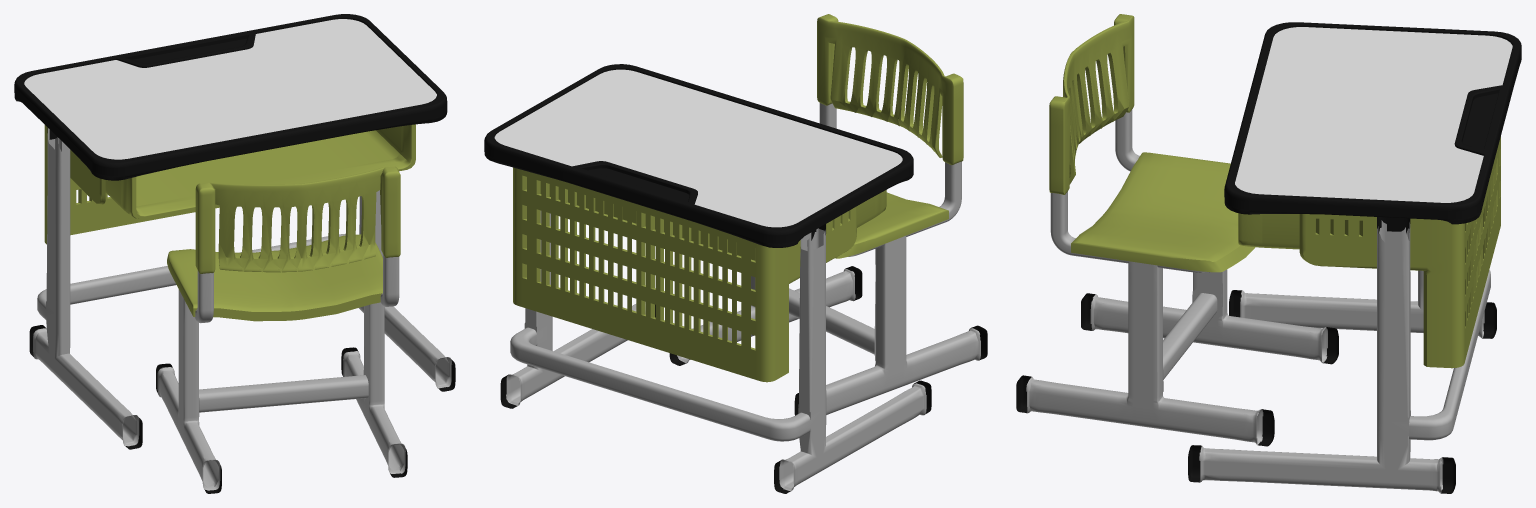
Rendered from desk_chair.fbx.
3 renders of one model, left to right at view 1: azimuth 30°, elevation 25°; view 2: azimuth 150°, elevation 25°; view 3: azimuth 270°, elevation 25°, orthographic. The views are drawn at different scales.
Visible parts, largest first — view 1: Cube.011, Cube.021; view 2: Cube.011, Cube.021; view 3: Cube.011, Cube.021.
Boxes of the visible parts, bbox=[...] form: Cube.011: bbox=[14, 14, 455, 449]; Cube.021: bbox=[156, 166, 407, 493]; Cube.011: bbox=[484, 64, 931, 493]; Cube.021: bbox=[669, 14, 987, 415]; Cube.011: bbox=[1188, 22, 1521, 493]; Cube.021: bbox=[1016, 14, 1338, 446].
Bounding box in the file's own units: 388 × 314 × 448.
